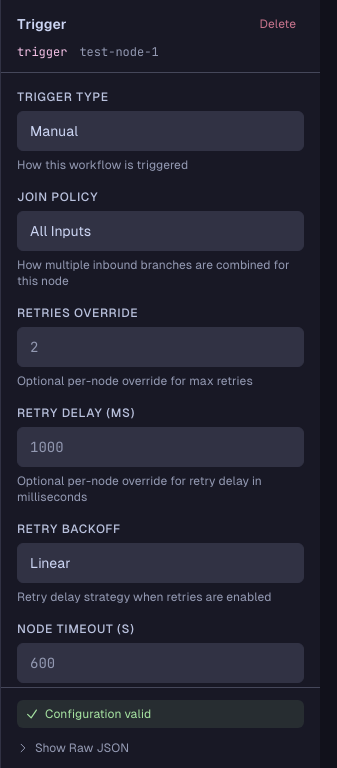
Test: NodeConfigPanel › toggles to raw JSON editor when clicked
The width and height of the screenshot is (337, 768).
Click the button "Show Raw JSON": (82, 748) [17, 740, 304, 756]
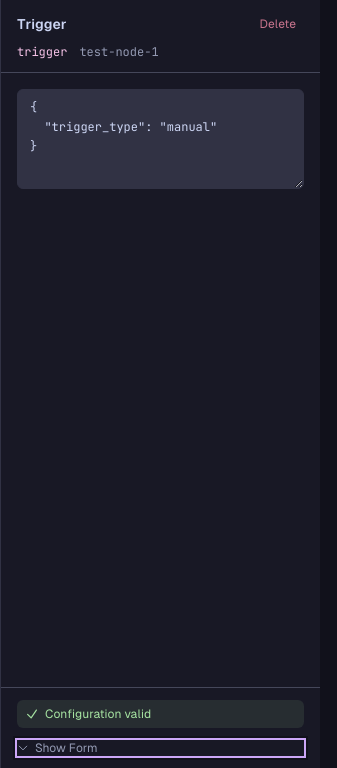
Expected: the text box named "Raw JSON configuration" is shown, [17, 89, 304, 189]
Expected: the button "Show Form" is shown, [17, 740, 304, 756]
